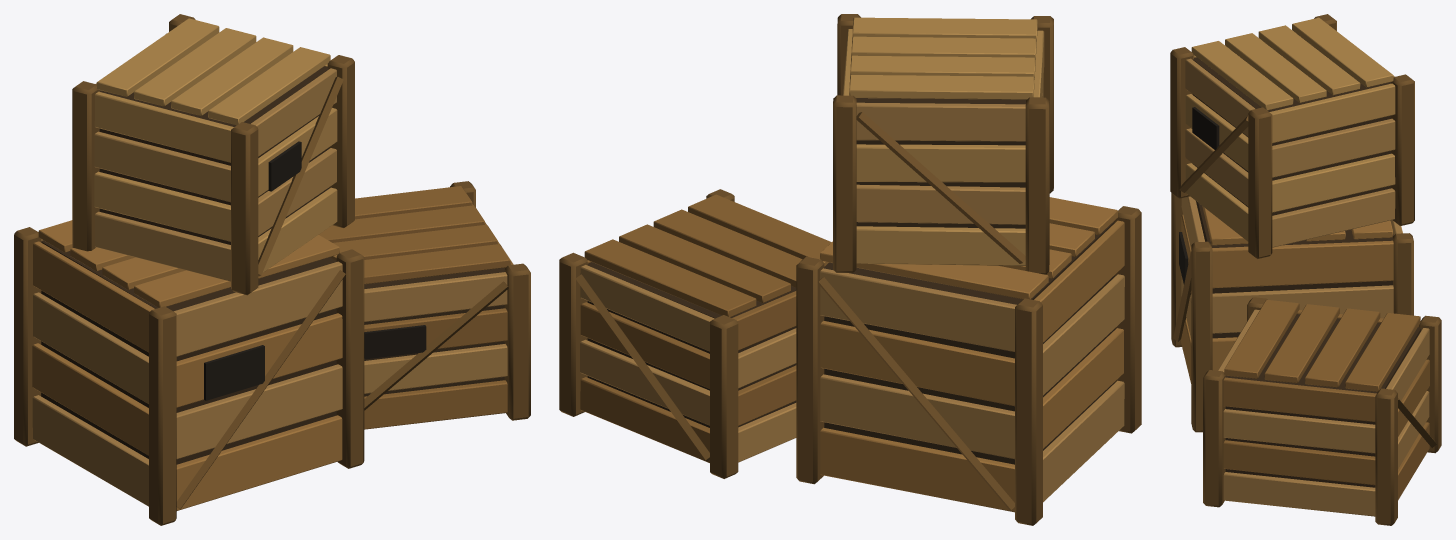
Rendered from crates_block.glb.
3 views of the same model, side by side, from view 1: azimuth 30°, elevation 25°; view 2: azimuth 150°, elevation 25°; view 3: azimuth 270°, elevation 25° (orthographic). The views are drawn at different scales.
Parts seen in each view (by area): view 1: crates; view 2: crates; view 3: crates.
Boxes of the visible parts, left/top/right/bottom form: crates: left=14, top=14, right=530, bottom=525; crates: left=559, top=14, right=1141, bottom=525; crates: left=1170, top=14, right=1441, bottom=525.
Size of the model in its own units: 1.87 by 1.48 by 1.09.
